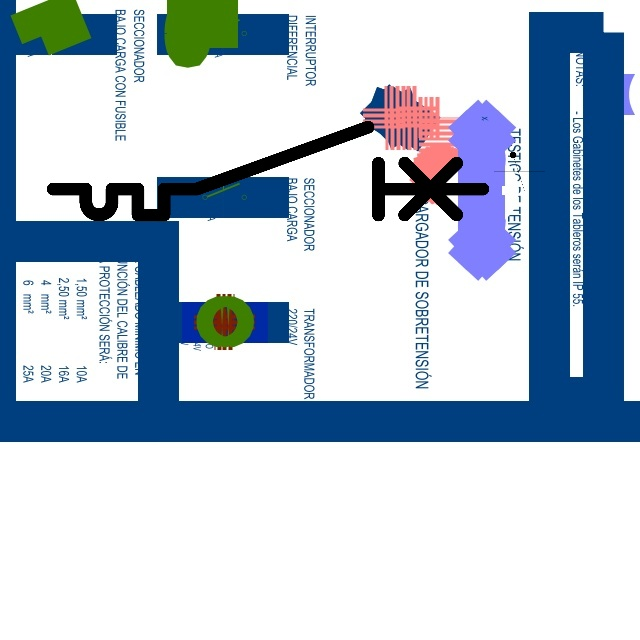interruptor_termomagnetico: (42, 116, 494, 226)
